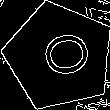O_W: (29, 29, 90, 84)
